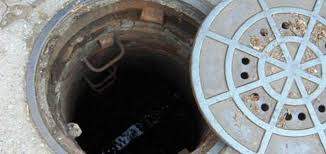manhole: (10, 2, 309, 153)
